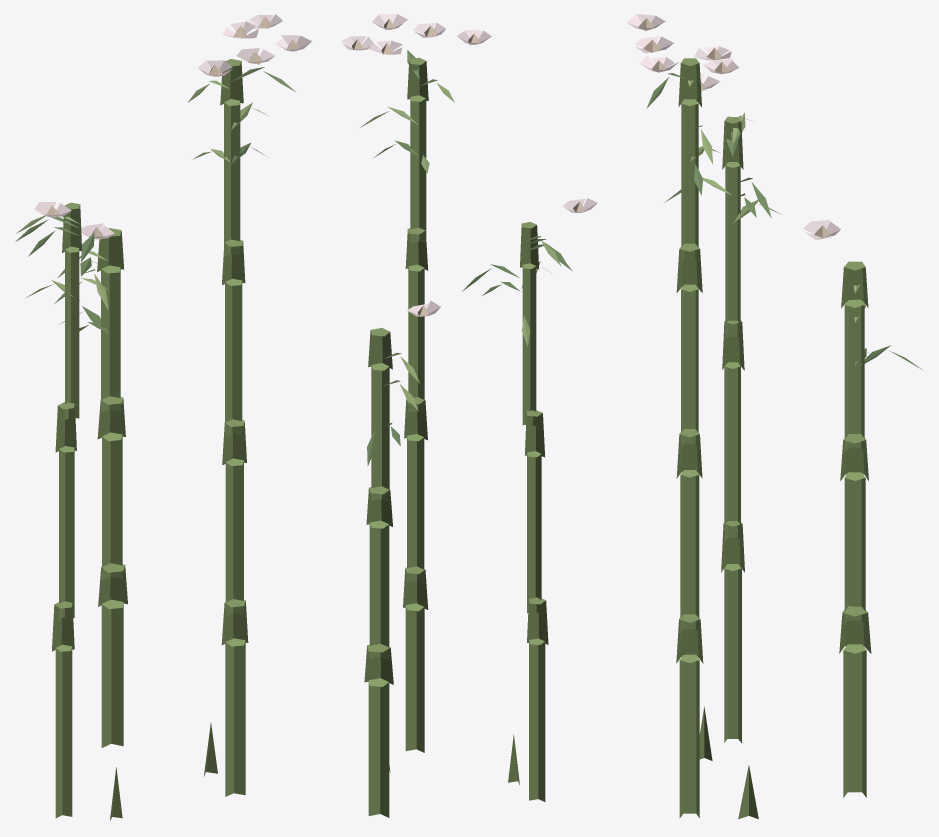
File: shu.maozhu@flowering__summer.glb
3 renders of one model, left to right at view 1: azimuth 30°, elevation 25°; view 2: azimuth 150°, elevation 25°; view 3: azimuth 270°, elevation 25°, orthographic. The views are drawn at different scales.
Parts seen in each view (by area): view 1: shu.maozhu@flowering__summer; view 2: shu.maozhu@flowering__summer; view 3: shu.maozhu@flowering__summer.
Boxes of the visible parts, x1=… form: shu.maozhu@flowering__summer: x1=15, y1=14, x2=312, y2=820; shu.maozhu@flowering__summer: x1=341, y1=14, x2=597, y2=817; shu.maozhu@flowering__summer: x1=626, y1=14, x2=922, y2=819.
Bounding box in the file's own units: 3.27 × 9.36 × 3.25.
